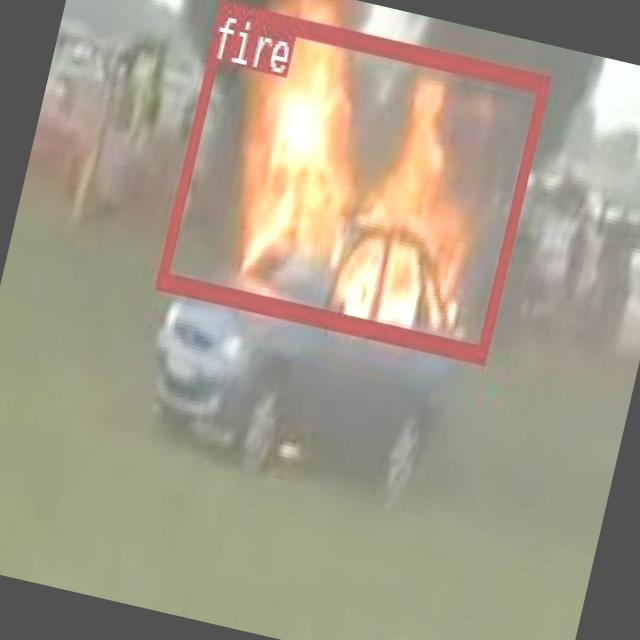fire: (154, 0, 549, 360)
